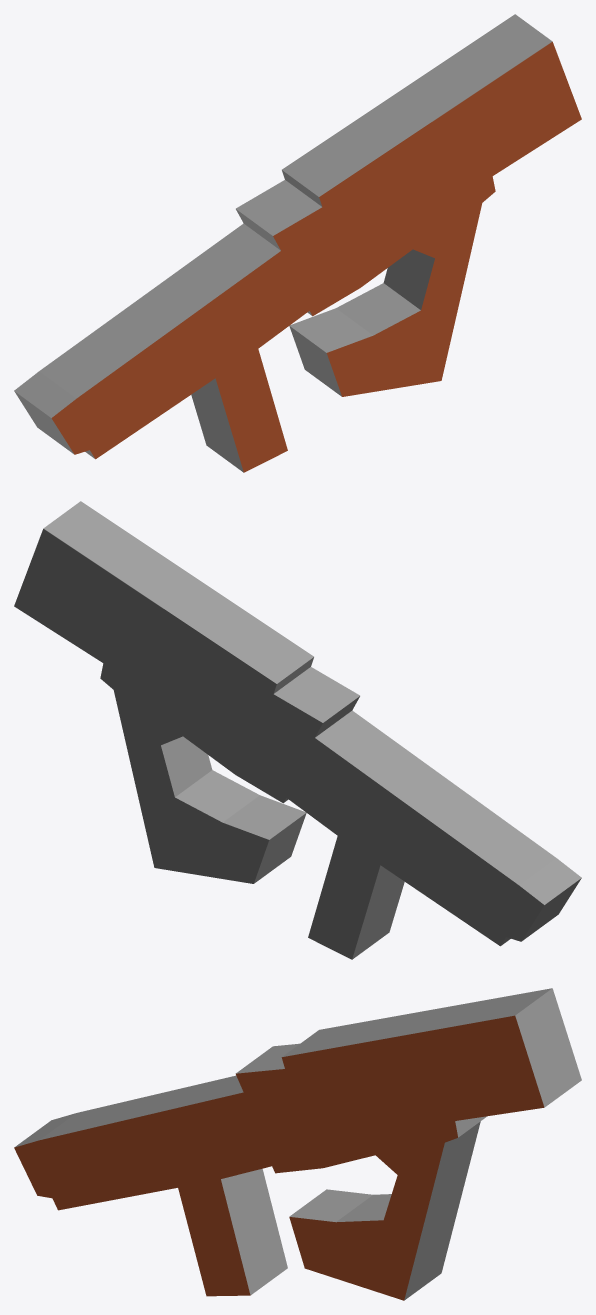
File: construction_1336_assumed_A_Casa_h6m.obj
3 renders of one model, top to bottom at view 1: azimuth 30°, elevation 25°; view 2: azimuth 150°, elevation 25°; view 3: azimuth 330°, elevation 25°, orthographic.
Parts seen in each view (by area): view 1: construction_1336_assumed_A_Casa; view 2: construction_1336_assumed_A_Casa; view 3: construction_1336_assumed_A_Casa.
Part boxes in pixels (x1,y1,x2,y2): construction_1336_assumed_A_Casa: (14, 14, 581, 472); construction_1336_assumed_A_Casa: (14, 501, 581, 959); construction_1336_assumed_A_Casa: (14, 988, 581, 1300).
Bounding box in the file's own units: 49.06 × 31.46 × 6.
